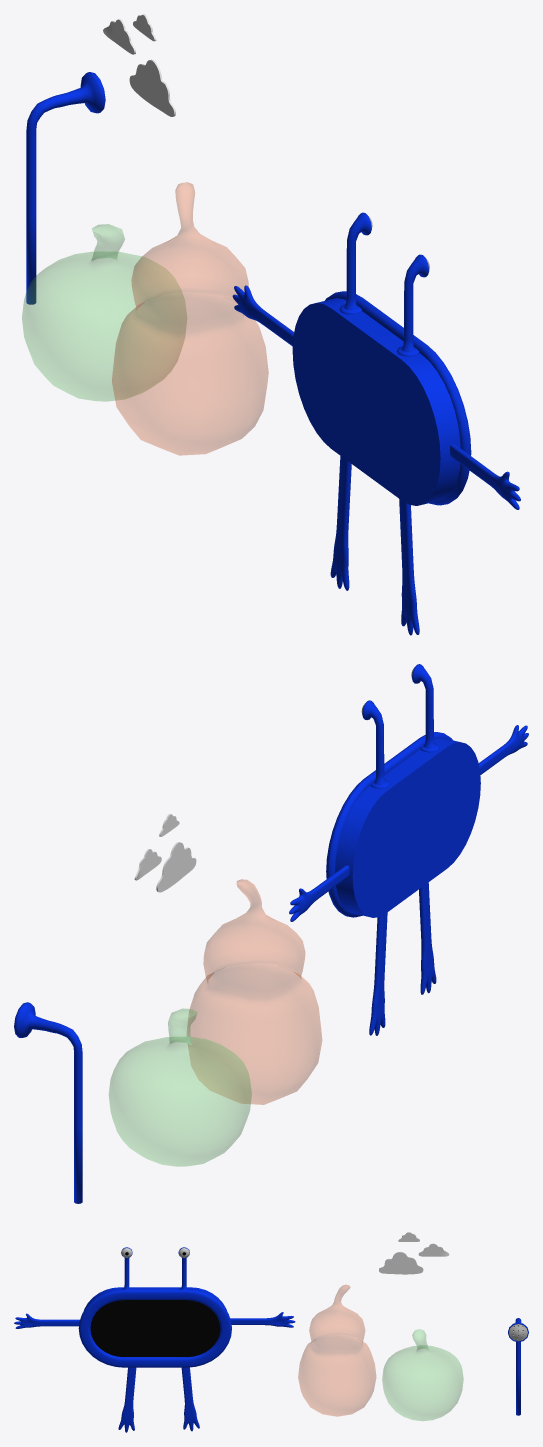
File: DecorationSet2.fbx
3 renders of one model, top to bottom at view 1: azimuth 30°, elevation 25°; view 2: azimuth 150°, elevation 25°; view 3: azimuth 270°, elevation 25°, orthographic. The views are drawn at different scales.
Parts seen in each view (by area): view 1: TV, Fruit, Apple, SoundThing, CloudDecoration, Leg, Leg.001, Arm.001, Arm; view 2: TV, Fruit, Apple, SoundThing, CloudDecoration, Leg, Leg.001, Arm, Arm.001; view 3: TV, Fruit, Apple, CloudDecoration, SoundThing, Leg.001, Leg, Arm.001, Arm.
Boxes of the visible parts, x1,y1,x2,y2 form: TV: [292, 212, 471, 505]; Fruit: [112, 182, 268, 455]; Apple: [22, 224, 186, 401]; SoundThing: [26, 72, 105, 304]; CloudDecoration: [103, 14, 175, 116]; Leg: [330, 456, 351, 590]; Leg.001: [399, 499, 419, 635]; Arm.001: [450, 444, 520, 509]; Arm: [232, 285, 294, 346]; TV: [326, 664, 480, 917]; Fruit: [187, 879, 321, 1104]; Apple: [109, 1008, 251, 1166]; SoundThing: [14, 1002, 82, 1203]; CloudDecoration: [134, 814, 196, 892]; Leg: [369, 912, 387, 1035]; Leg.001: [419, 882, 436, 994]; Arm: [289, 865, 349, 921]; Arm.001: [478, 725, 528, 774]; TV: [78, 1247, 231, 1367]; Fruit: [298, 1285, 376, 1416]; Apple: [382, 1329, 463, 1420]; CloudDecoration: [379, 1232, 449, 1274]; SoundThing: [508, 1318, 528, 1415]; Leg.001: [118, 1367, 136, 1432]; Leg: [181, 1367, 199, 1431]; Arm.001: [14, 1313, 79, 1328]; Arm: [230, 1312, 295, 1327].
Size of the model in its own units: 85.36 by 208 by 474.
